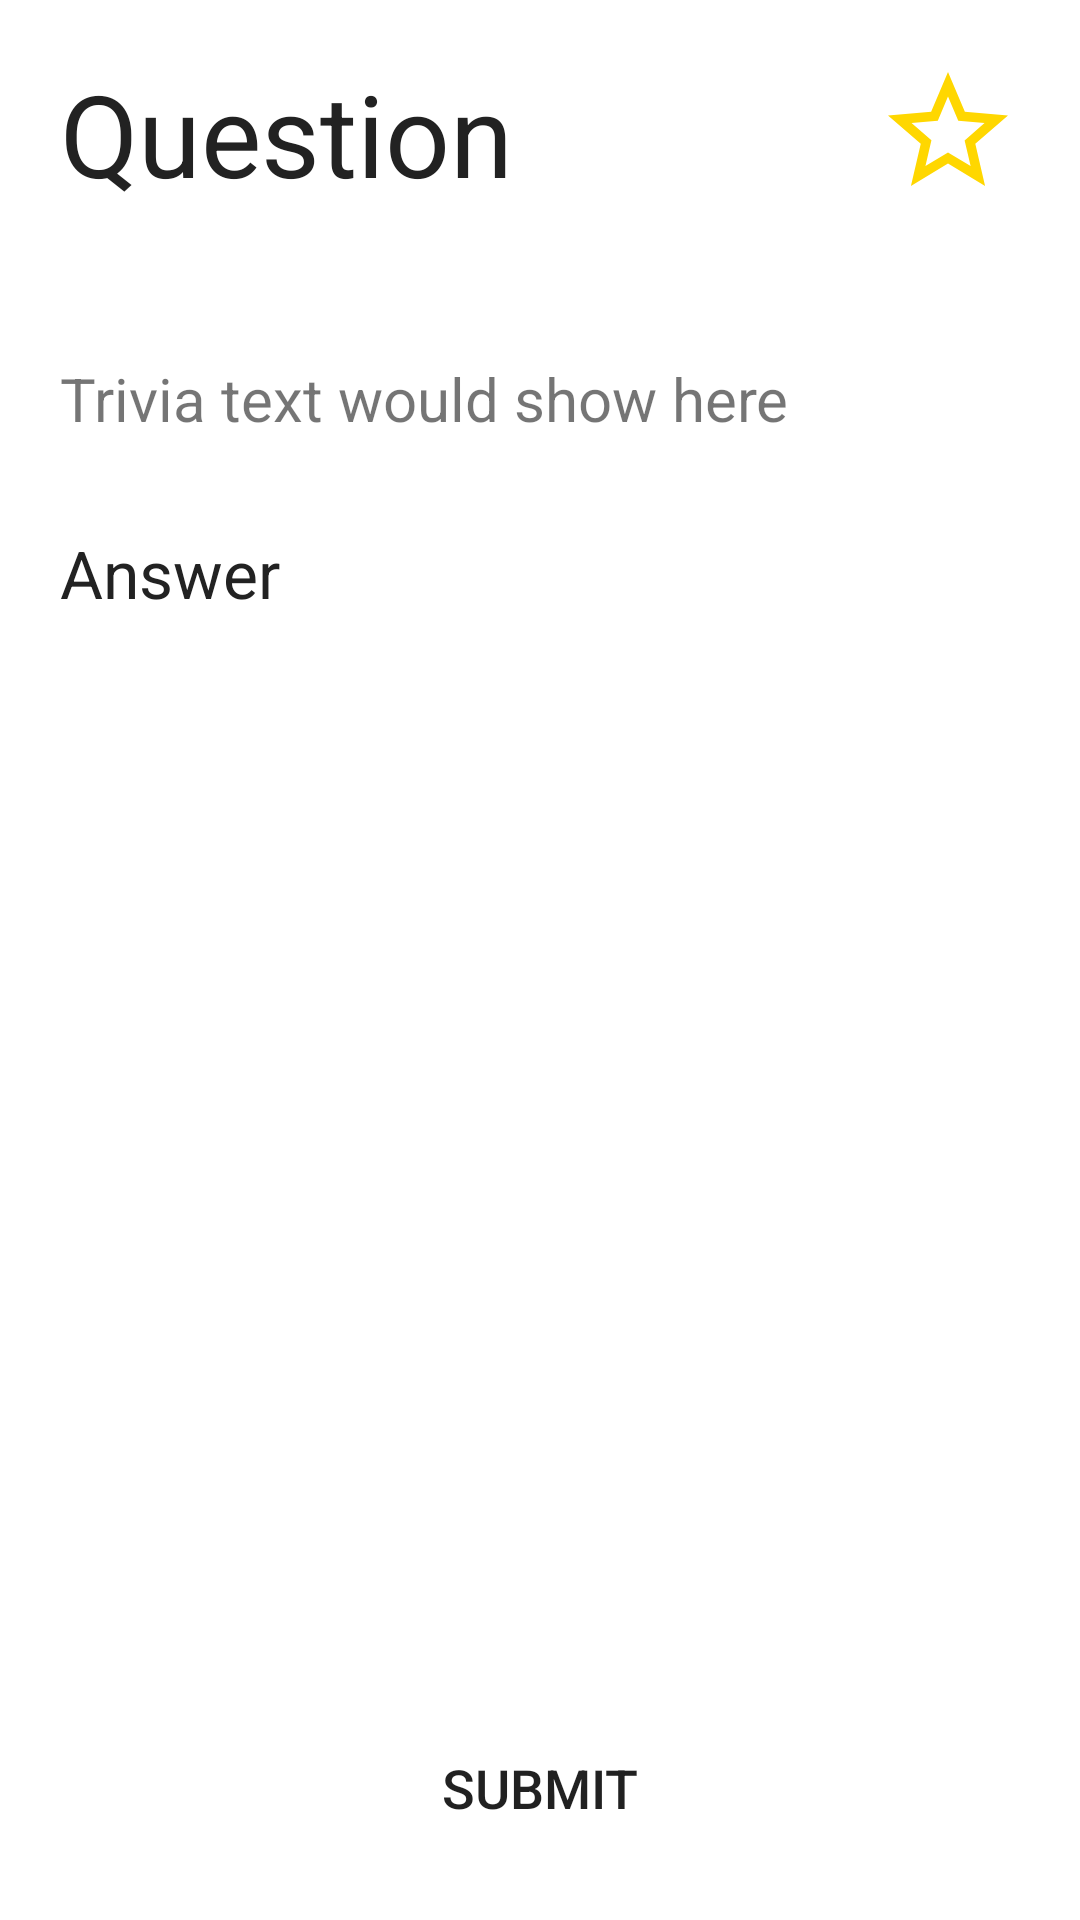

Icons on this 1080 × 1920 Android screen, each with the point to tap as [x,y]:
star: [948,129]
